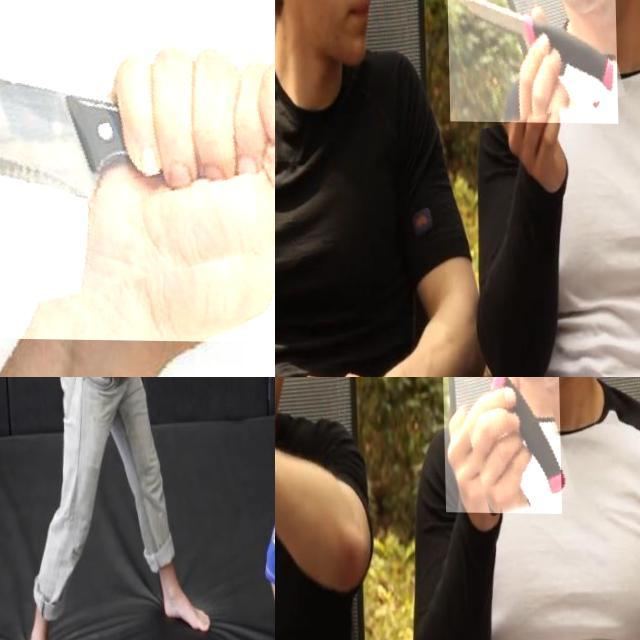-: (0, 0, 275, 341), (445, 0, 616, 122), (439, 377, 560, 512), (105, 377, 205, 434)
